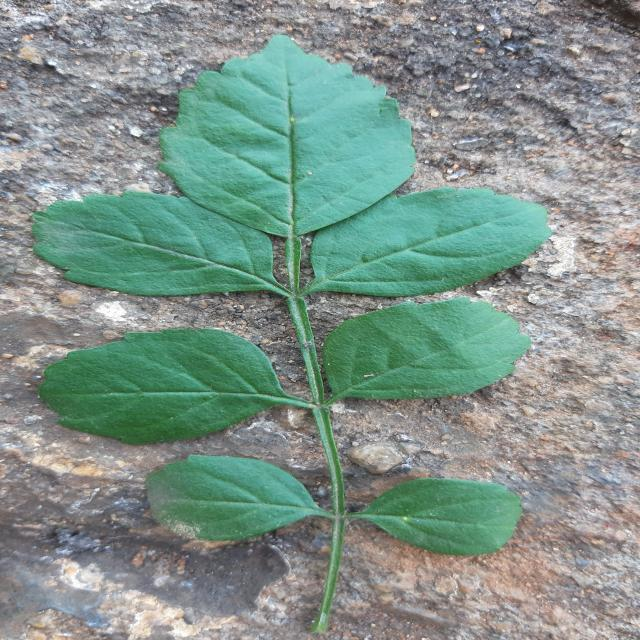tecoma: (33, 35, 551, 632)
